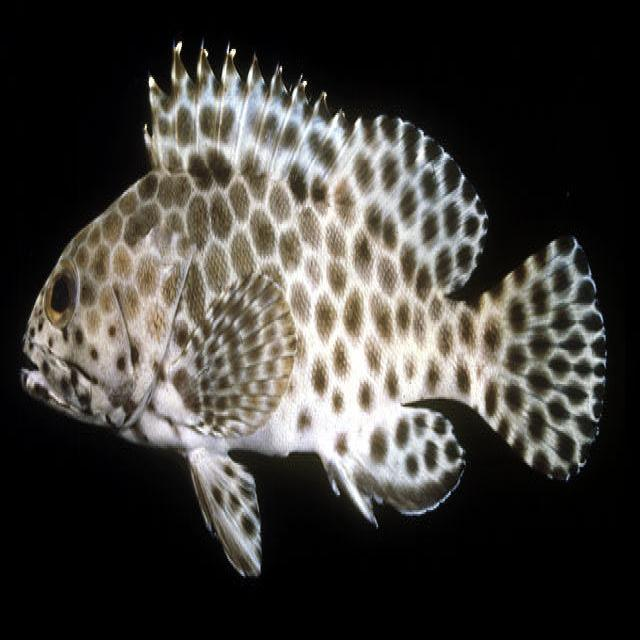ikan: (11, 30, 614, 601)
